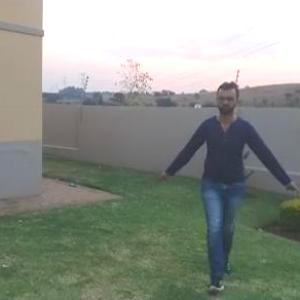land: (154, 61, 299, 299)
